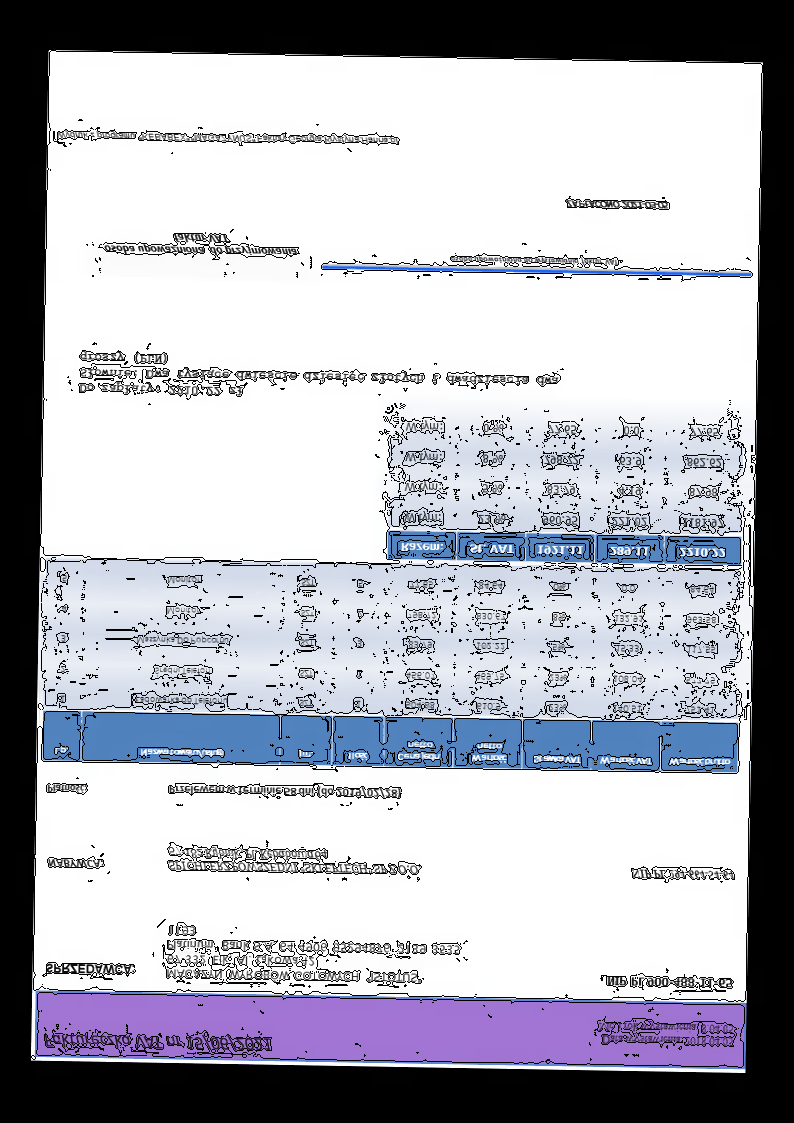Table: (41, 557, 743, 774), (386, 408, 745, 567)
TextBox: (77, 349, 563, 404), (164, 924, 463, 988), (167, 844, 423, 877), (54, 128, 401, 149), (102, 229, 300, 261), (42, 1031, 273, 1054), (596, 1021, 735, 1050), (167, 783, 402, 800), (448, 254, 620, 268), (604, 973, 734, 991), (43, 960, 137, 980), (629, 866, 735, 883), (563, 197, 669, 213), (45, 856, 106, 871), (45, 781, 89, 797)
